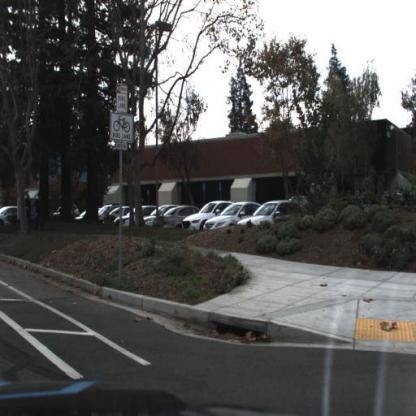car: (238, 199, 311, 240), (183, 198, 224, 235), (203, 205, 242, 233), (182, 206, 208, 233), (154, 208, 181, 231), (143, 203, 157, 231)
pedestrian: (36, 193, 46, 232), (25, 194, 33, 230)
